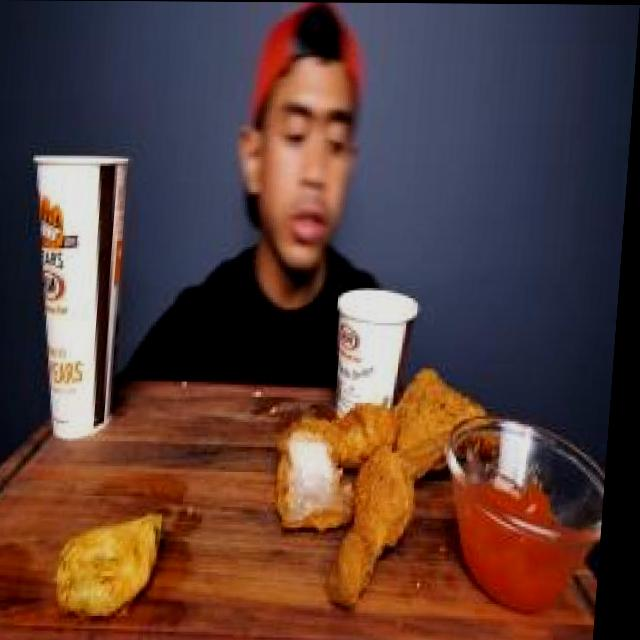AW cola: (8, 130, 142, 459)
crispy corn: (335, 279, 442, 428)
fried chicken: (275, 357, 497, 596)
perkedel: (48, 490, 181, 636)
